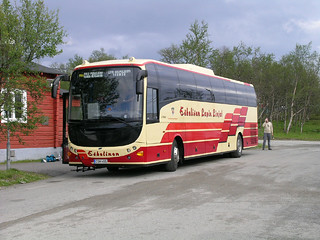bus: (50, 56, 259, 171)
